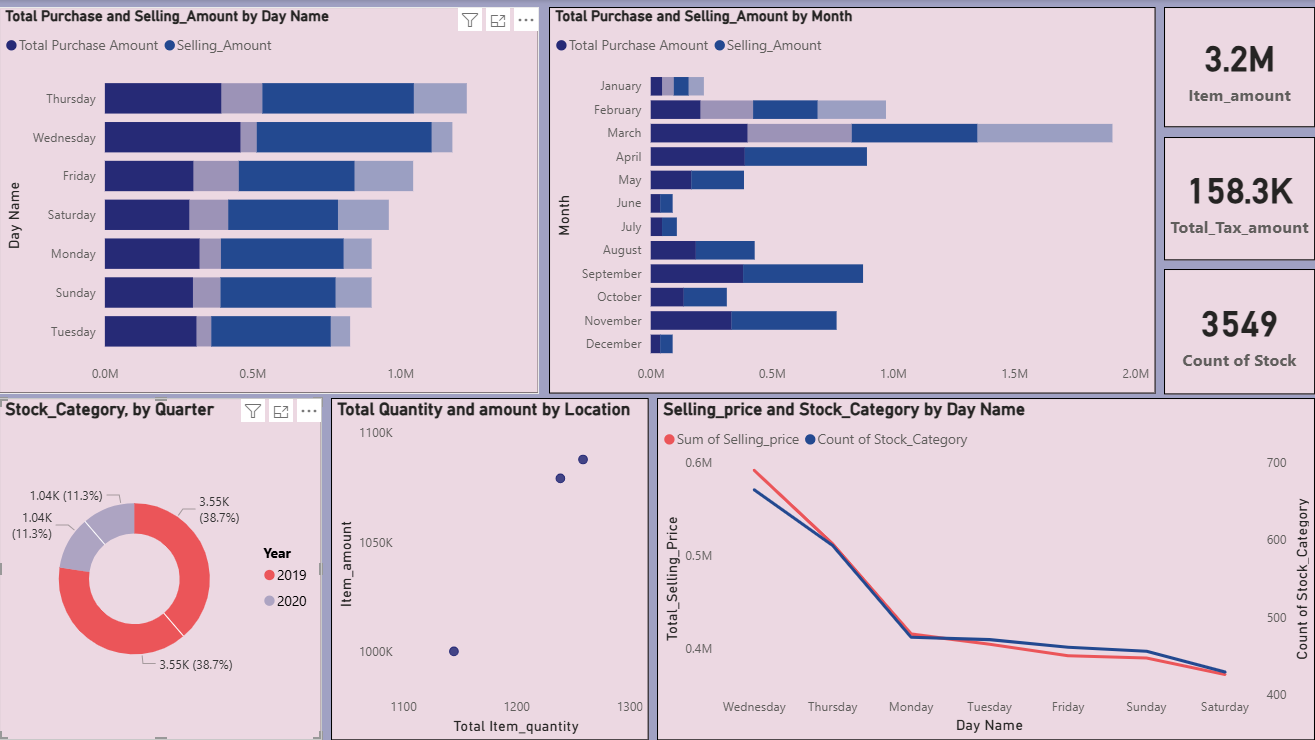

The dashboard page shown, as its layout file describes it:
{"tool":"powerbi","page":{"name":"Page 1","canvas":[1280,720],"ordinal":0},"visuals":[{"type":"barChart","title":"Total Purchase and Selling_Amount by Day Name","fields":{"Category":["Data.Day Name"],"Y":["Sum(Data.Purchase_Cost)","Sum(Data.Selling_price)"]},"box":[0,6.8,525.2,376.4],"z":0},{"type":"barChart","title":"Total Purchase  and Selling_Amount by Month","fields":{"Y":["Sum(Data.Purchase_Cost)","Sum(Data.Selling_price)"],"Category":["Data.Date.Variation.Date Hierarchy.Month"]},"box":[535,6.8,590.4,376.4],"z":1000},{"type":"donutChart","title":"Stock_Category, by Quarter","fields":{"Category":["Data.Year"],"Y":["CountNonNull(Data.Stock_Category)","CountNonNull(Data.Stock)"]},"box":[0,387.1,314.2,332.6],"z":2000},{"type":"scatterChart","title":"Total Quantity and amount by Location","fields":{"Category":["Data.Location"],"X":["Sum(Data.Item_quantity)"],"Y":["Sum(Data.Item_amount)"]},"box":[322.9,387.1,309.3,332.6],"z":3000},{"type":"card","fields":{"Values":["Sum(Data.Tax_amount)"]},"box":[1133.1,133.3,146.9,119.6],"z":4000},{"type":"card","fields":{"Values":["Sum(Data.Item_amount)"]},"box":[1133.1,6.8,146.9,116.7],"z":5000},{"type":"card","fields":{"Values":["CountNonNull(Data.Stock)"]},"box":[1133.1,261.6,146.9,121.6],"z":6000},{"type":"lineChart","title":"Selling_price and Stock_Category by Day Name","fields":{"Y":["Sum(Data.Selling_price)"],"Y2":["CountNonNull(Data.Stock_Category)"],"Category":["Data.Day Name"]},"box":[640,387.1,640,332.6],"z":7000}]}

Visuals, with their boxes in screenshot pixels (x1, y1, x2, y2), scaled from the page's 1280x720 canvas onto the 1315x740 screenshot:
"Total Purchase and Selling_Amount by Day Name" barChart: 0:7:540:394
"Total Purchase  and Selling_Amount by Month" barChart: 550:7:1156:394
"Stock_Category, by Quarter" donutChart: 0:398:323:739
"Total Quantity and amount by Location" scatterChart: 332:398:649:739
card - Sum(Data.Tax_amount): 1164:137:1314:260
card - Sum(Data.Item_amount): 1164:7:1314:127
card - CountNonNull(Data.Stock): 1164:269:1314:394
"Selling_price and Stock_Category by Day Name" lineChart: 658:398:1314:739
